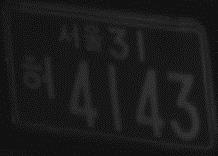1: (104, 61, 125, 130), (133, 26, 149, 63)
3: (166, 69, 201, 141), (106, 25, 131, 60)
4: (67, 61, 99, 130), (135, 69, 166, 139)
서울_O: (56, 21, 106, 55)
허: (19, 52, 57, 101)
